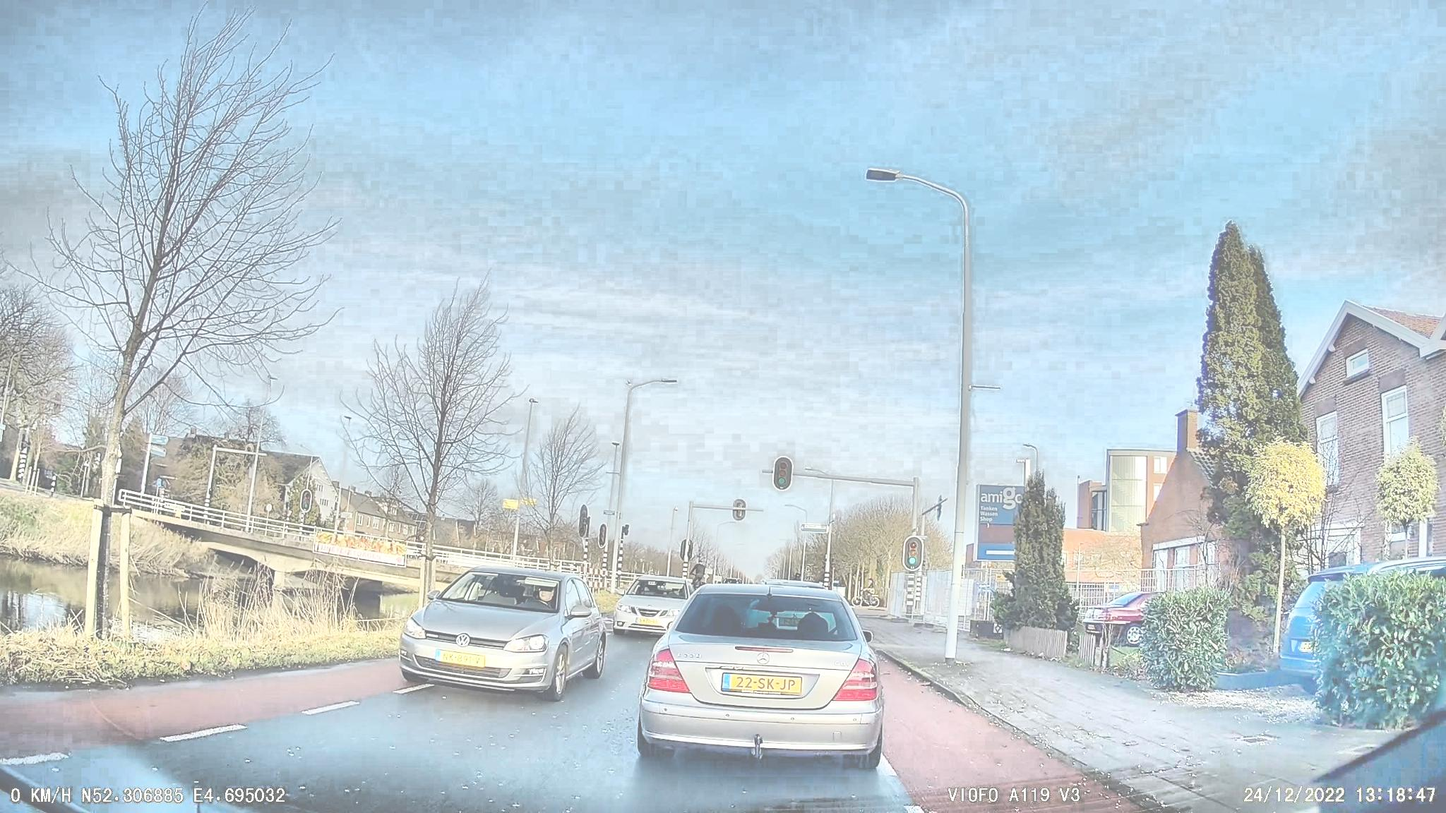Roads: (0, 638, 1104, 813)
